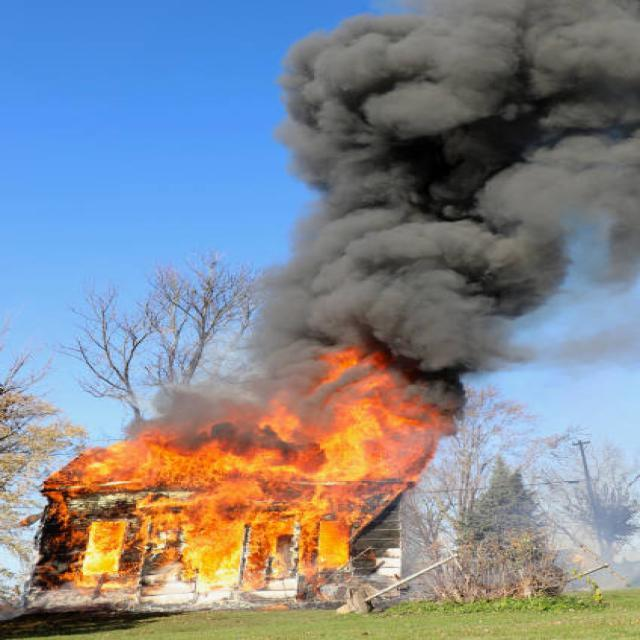Fire: (71, 348, 427, 590)
Smoke: (293, 4, 640, 400)
